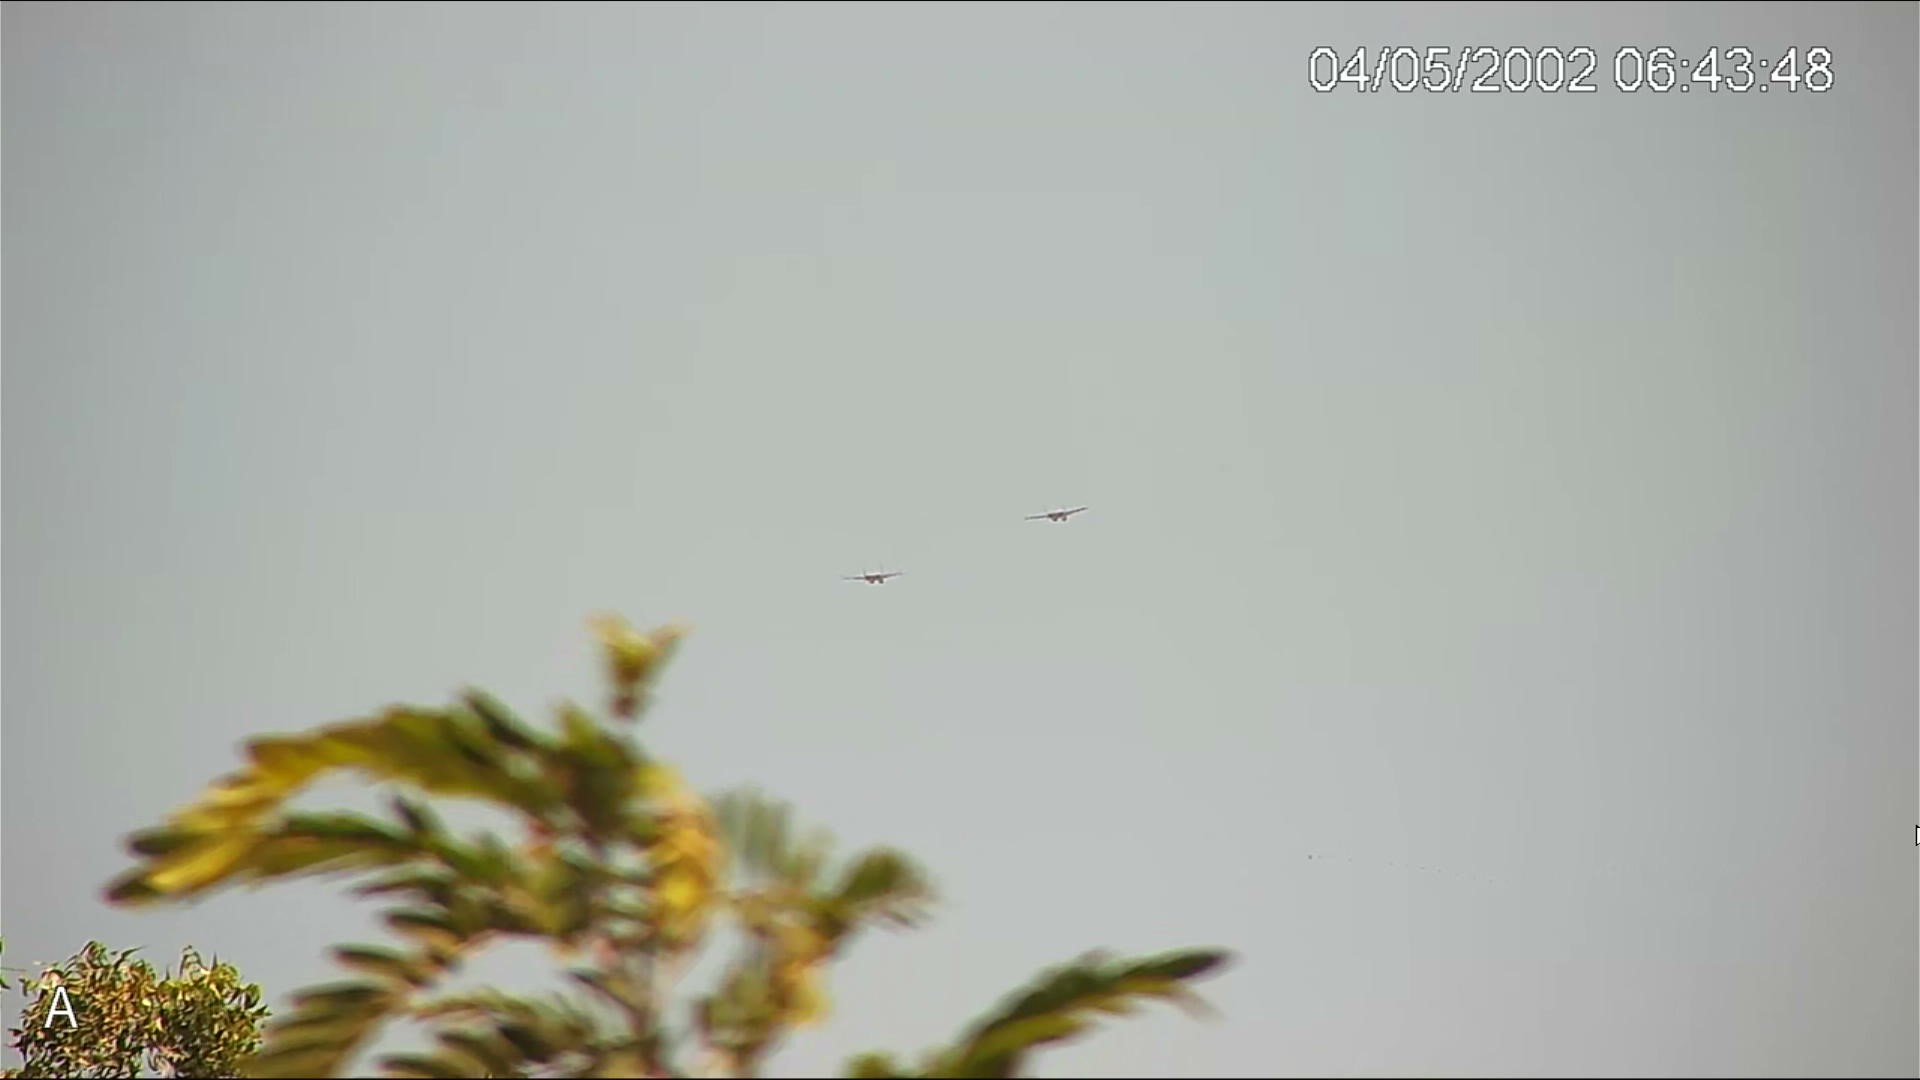SU_30: (1027, 498, 1092, 525), (844, 564, 905, 588)
